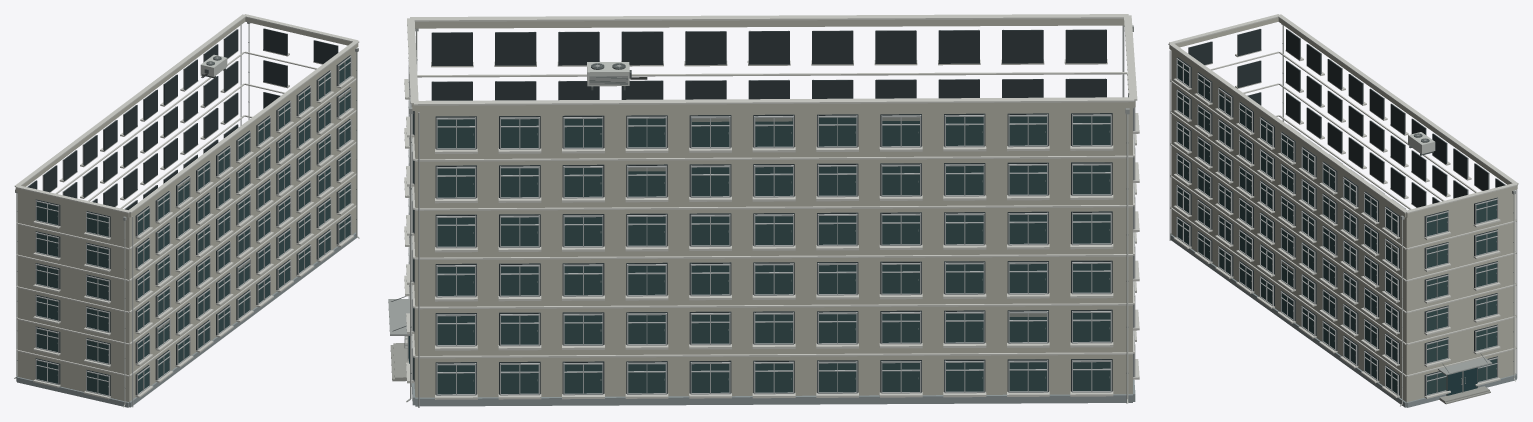
The model's file is osm_way_1173057027.glb.
3 views of the same model, side by side, from view 1: azimuth 30°, elevation 25°; view 2: azimuth 150°, elevation 25°; view 3: azimuth 270°, elevation 25° (orthographic). The views are drawn at different scales.
Parts seen in each view (by area): view 1: Windows and facade details | osm_way_1173057027, Architecture | osm_way_1173057027, Roof services | osm_way_1173057027, EXTERIOR::osm_way_1173057027::rainwater and roof service det; view 2: Windows and facade details | osm_way_1173057027, Architecture | osm_way_1173057027, Roof services | osm_way_1173057027, EXTERIOR::osm_way_1173057027::rainwater and roof service det, EXTERIOR::osm_way_1173057027::inferred entry doors canopy an, EXTERIOR::osm_way_1173057027::native pane seals and hardware; view 3: Windows and facade details | osm_way_1173057027, Architecture | osm_way_1173057027, Roof services | osm_way_1173057027, EXTERIOR::osm_way_1173057027::inferred entry doors canopy an, EXTERIOR::osm_way_1173057027::rainwater and roof service det.
Boxes of the visible parts, bbox=[...] form: Windows and facade details | osm_way_1173057027: bbox=[27, 25, 354, 407]; Architecture | osm_way_1173057027: bbox=[15, 17, 358, 407]; Roof services | osm_way_1173057027: bbox=[14, 14, 359, 213]; EXTERIOR::osm_way_1173057027::rainwater and roof service det: bbox=[14, 22, 359, 407]; Windows and facade details | osm_way_1173057027: bbox=[404, 25, 1139, 407]; Architecture | osm_way_1173057027: bbox=[411, 19, 1135, 406]; Roof services | osm_way_1173057027: bbox=[407, 14, 1137, 105]; EXTERIOR::osm_way_1173057027::rainwater and roof service det: bbox=[406, 25, 1133, 403]; EXTERIOR::osm_way_1173057027::inferred entry doors canopy an: bbox=[388, 296, 411, 381]; EXTERIOR::osm_way_1173057027::native pane seals and hardware: bbox=[473, 117, 1109, 381]; Windows and facade details | osm_way_1173057027: bbox=[1169, 28, 1517, 398]; Architecture | osm_way_1173057027: bbox=[1169, 17, 1517, 407]; Roof services | osm_way_1173057027: bbox=[1168, 14, 1518, 213]; EXTERIOR::osm_way_1173057027::inferred entry doors canopy an: bbox=[1438, 353, 1492, 404]; EXTERIOR::osm_way_1173057027::rainwater and roof service det: bbox=[1281, 24, 1515, 406].
Bounding box in the file's own units: 42.96 × 20.58 × 31.98.
